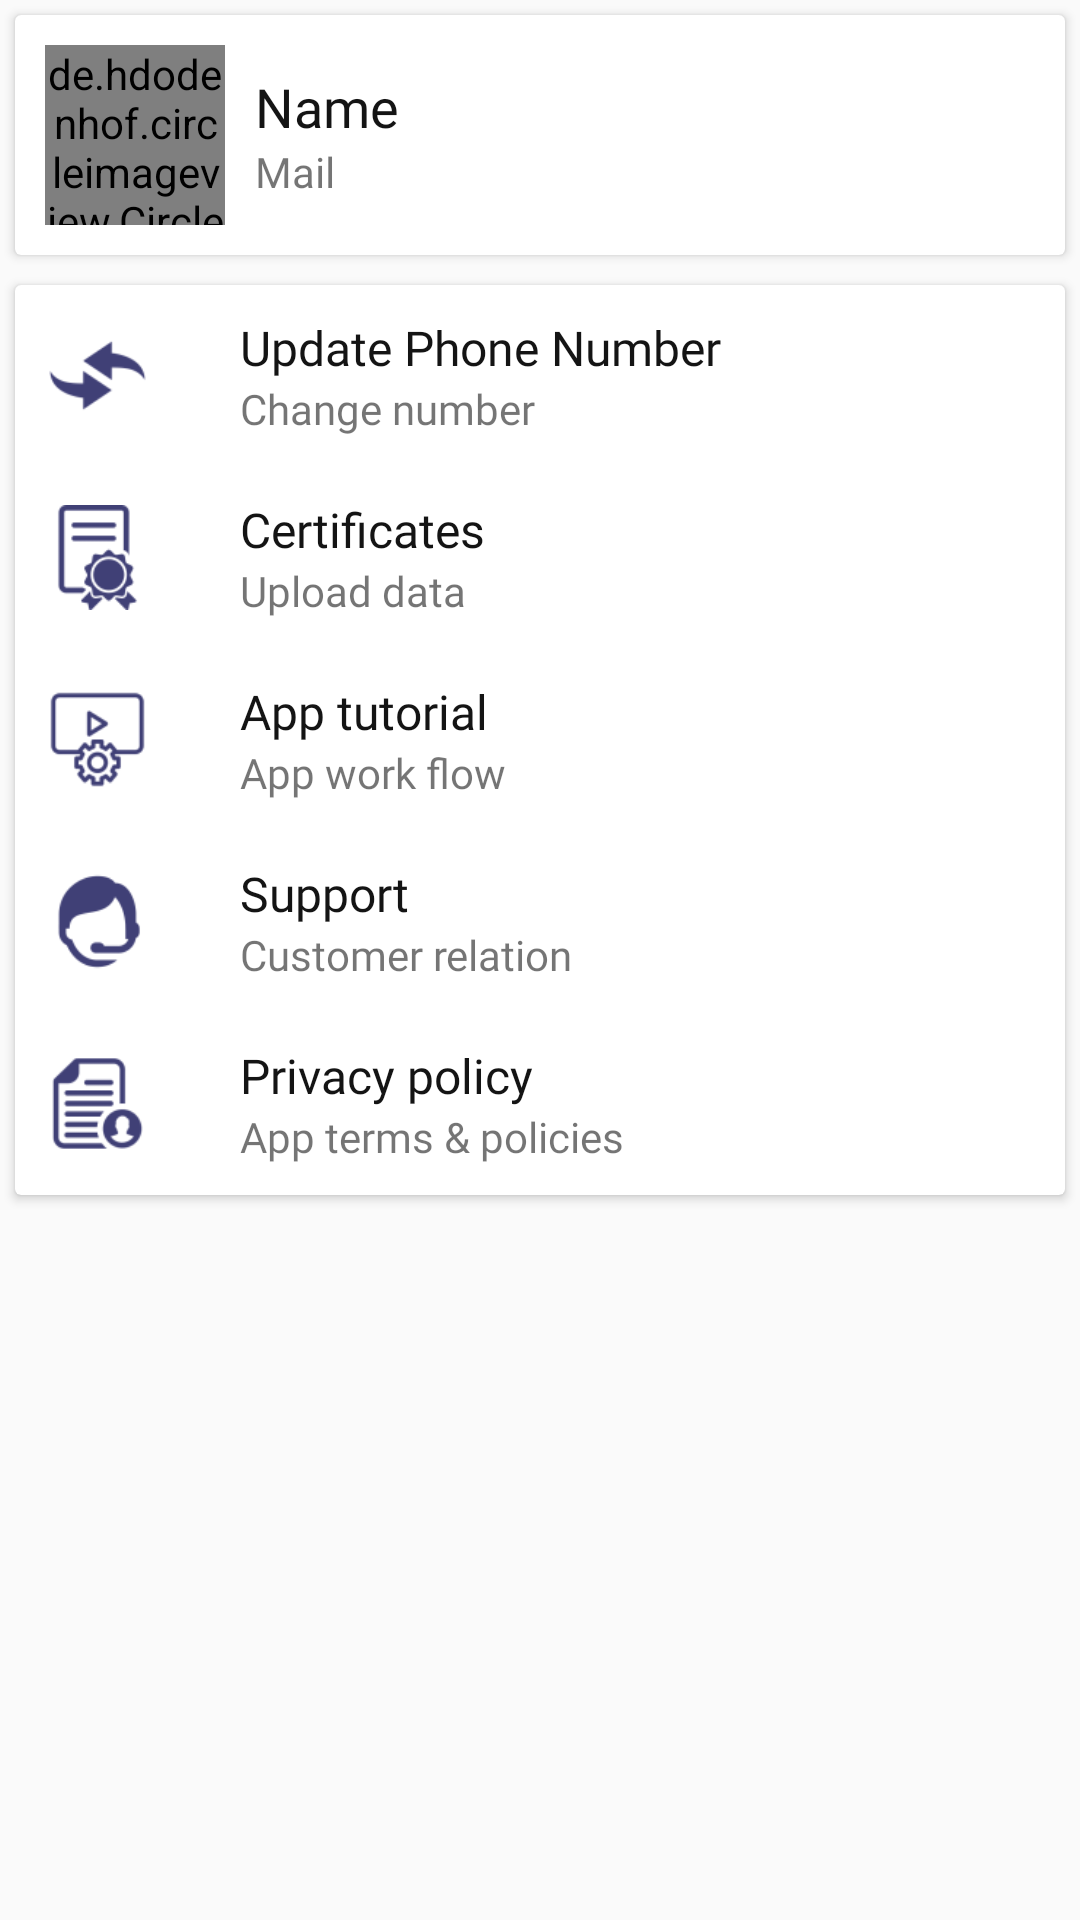

Where to tap for icons on this 1080x1920 app screen, as [x,y]:
sup: [99,921]
